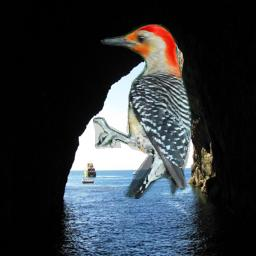Woodpecker: (93, 24, 196, 199)
